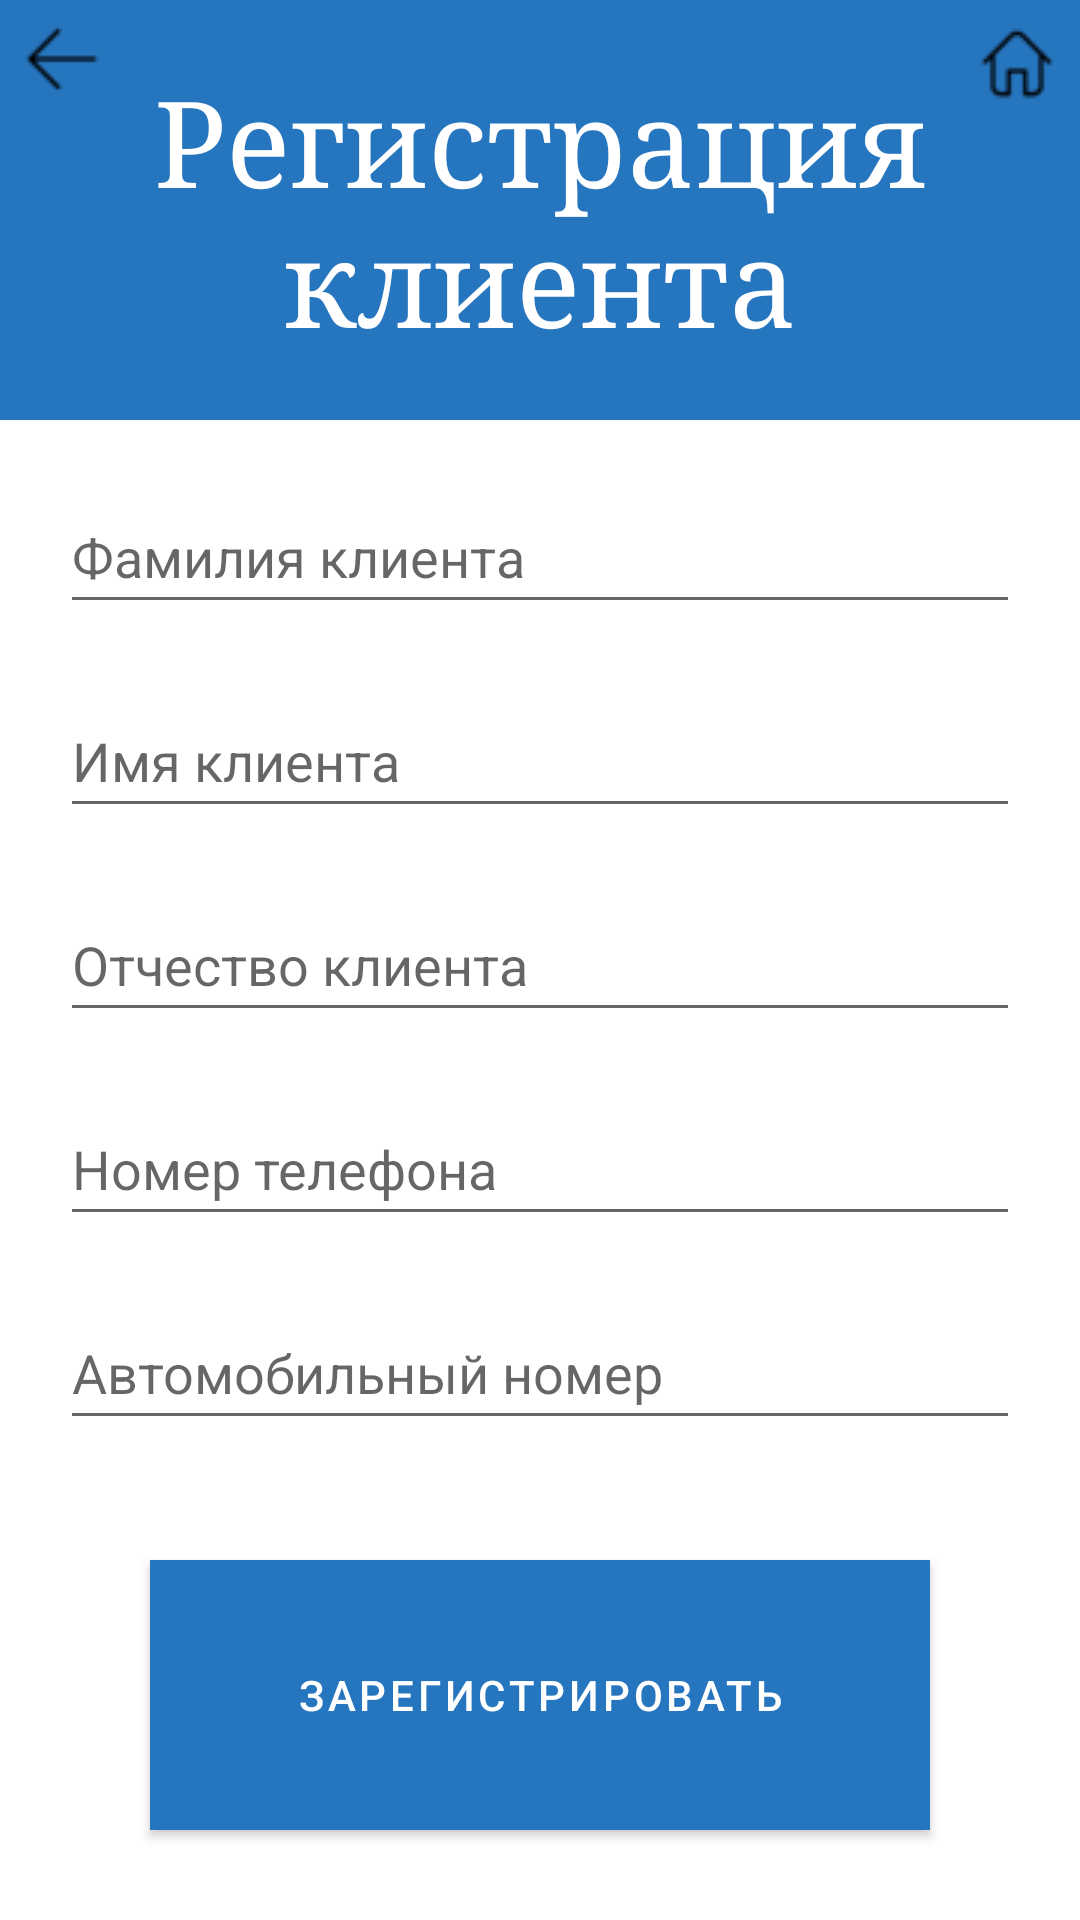

Screen size 1080 × 1920. Icon name, then its box in pixels as bbox(x1, y1, x2, y2):
direction left arrow: bbox(26, 28, 97, 90)
house home: bbox(981, 29, 1053, 99)
